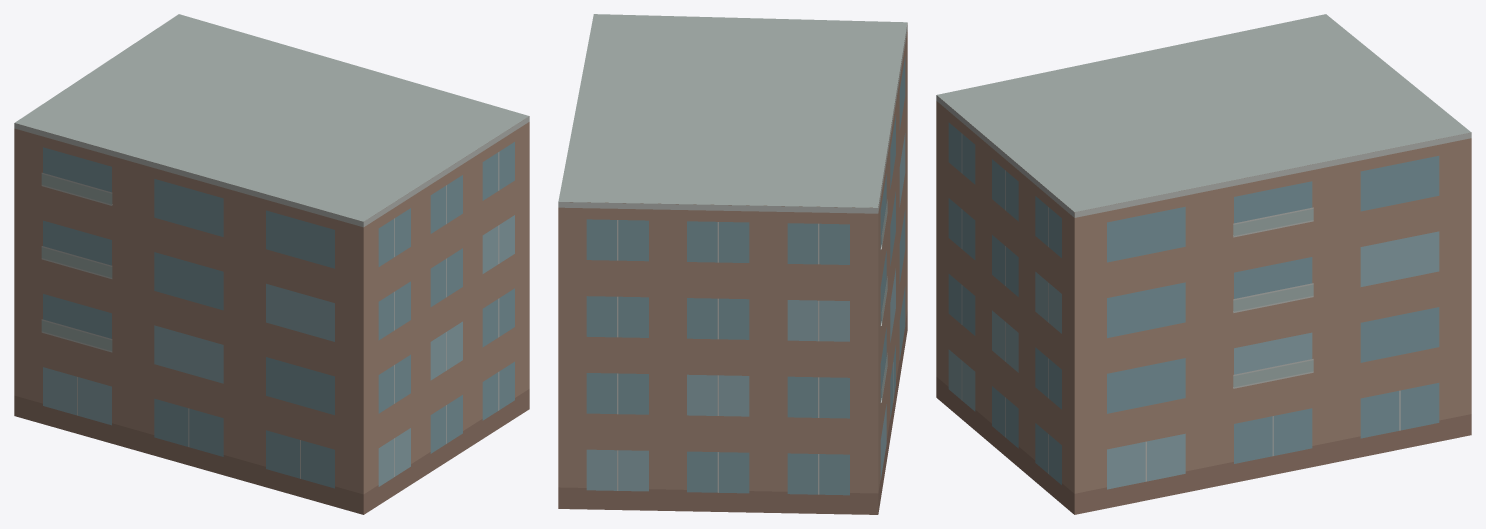
File: survey-upis-32738308.glb
3 renders of one model, left to right at view 1: azimuth 30°, elevation 25°; view 2: azimuth 150°, elevation 25°; view 3: azimuth 270°, elevation 25°, orthographic. The views are drawn at different scales.
Parts seen in each view (by area): view 1: survey-upis-32738308.tmp; view 2: survey-upis-32738308.tmp; view 3: survey-upis-32738308.tmp.
Boxes of the visible parts, x1,y1,x2,y2 form: survey-upis-32738308.tmp: (14,14,529,514); survey-upis-32738308.tmp: (558,14,907,514); survey-upis-32738308.tmp: (936,14,1471,514).
Size of the model in its own units: 17.98 by 12.8 by 20.52.
